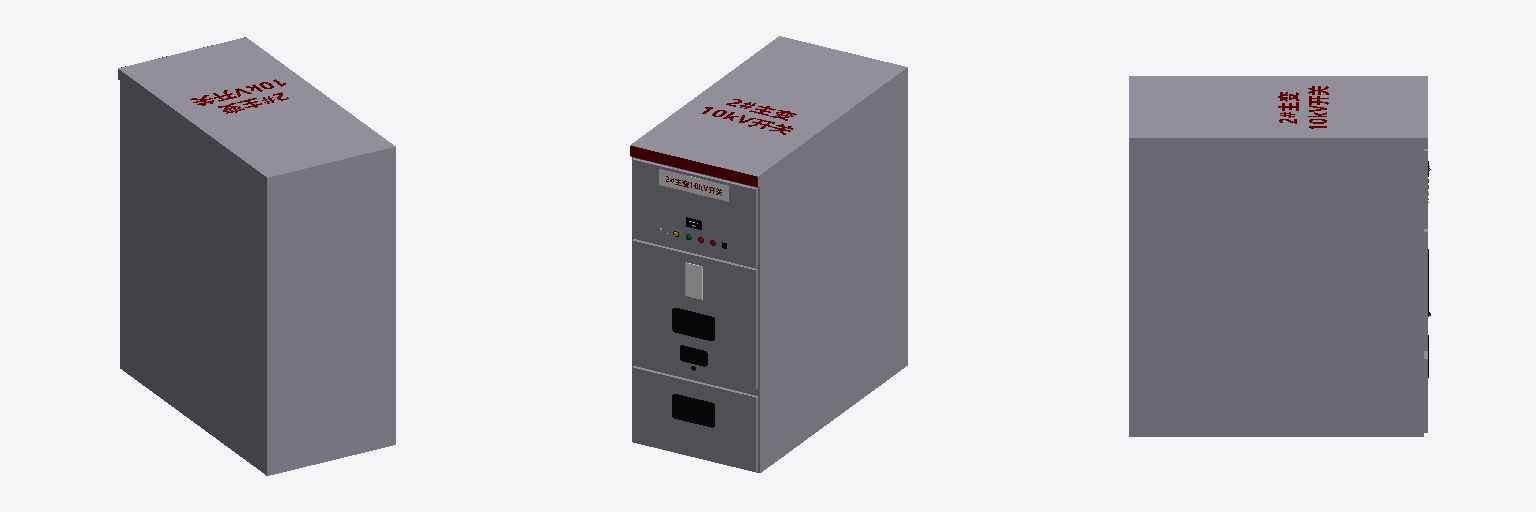
The picture shows the model from 3 angles: view 1: azimuth 30°, elevation 25°; view 2: azimuth 150°, elevation 25°; view 3: azimuth 270°, elevation 25°; orthographic projection.
Visible parts, largest first — view 1: Rectangle8732, Text338; view 2: Rectangle8732, Rectangle8735, Rectangle8734, Obj3d66_[number redacted]_124_1023, Obj3d66_[number redacted]_124_1022, Rectangle8733, Text338, Obj3d66_[number redacted]_187_690; view 3: Rectangle8732, Rectangle8735, Text338.
Part boxes in pixels (x1,y1,x2,y2): Rectangle8732: (118, 37, 395, 475); Text338: (190, 79, 288, 113); Rectangle8732: (630, 36, 907, 472); Rectangle8735: (632, 158, 757, 471); Rectangle8734: (630, 146, 757, 186); Obj3d66_[number redacted]_124_1023: (672, 394, 714, 427); Obj3d66_[number redacted]_124_1022: (672, 308, 714, 340); Rectangle8733: (659, 169, 728, 201); Text338: (702, 99, 796, 134); Obj3d66_[number redacted]_187_690: (685, 262, 702, 299); Rectangle8732: (1129, 76, 1427, 436); Rectangle8735: (1424, 149, 1427, 432); Text338: (1278, 86, 1328, 128).
Size of the model in its own units: 990 by 2201 by 2021.